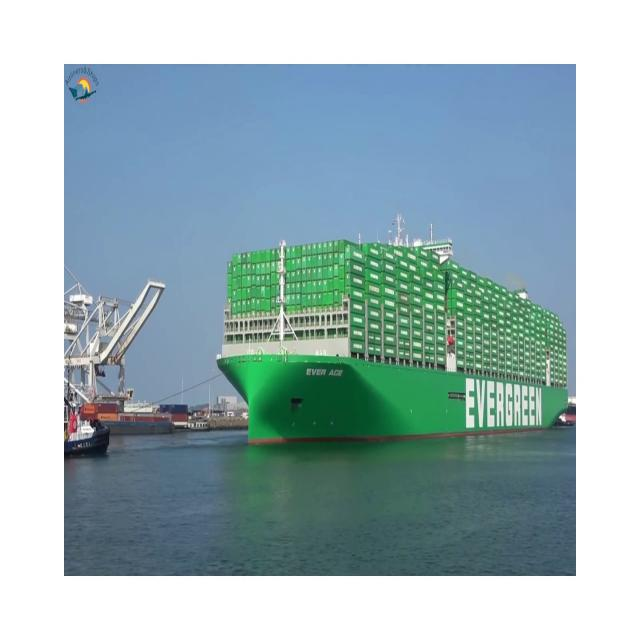OCR: (457, 366, 543, 443), (299, 360, 346, 380)
